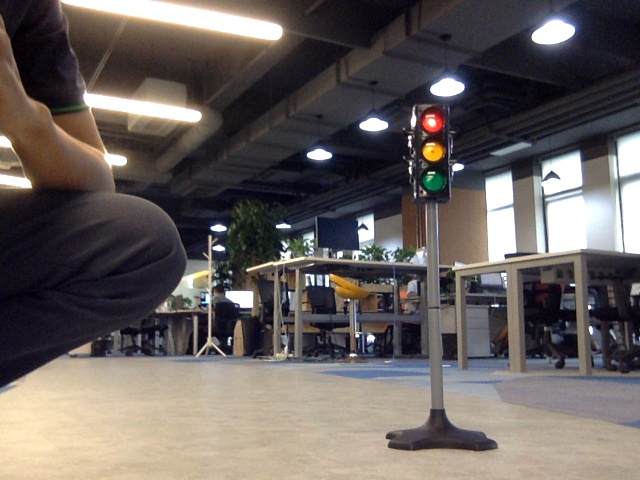red: (415, 110, 443, 193)
